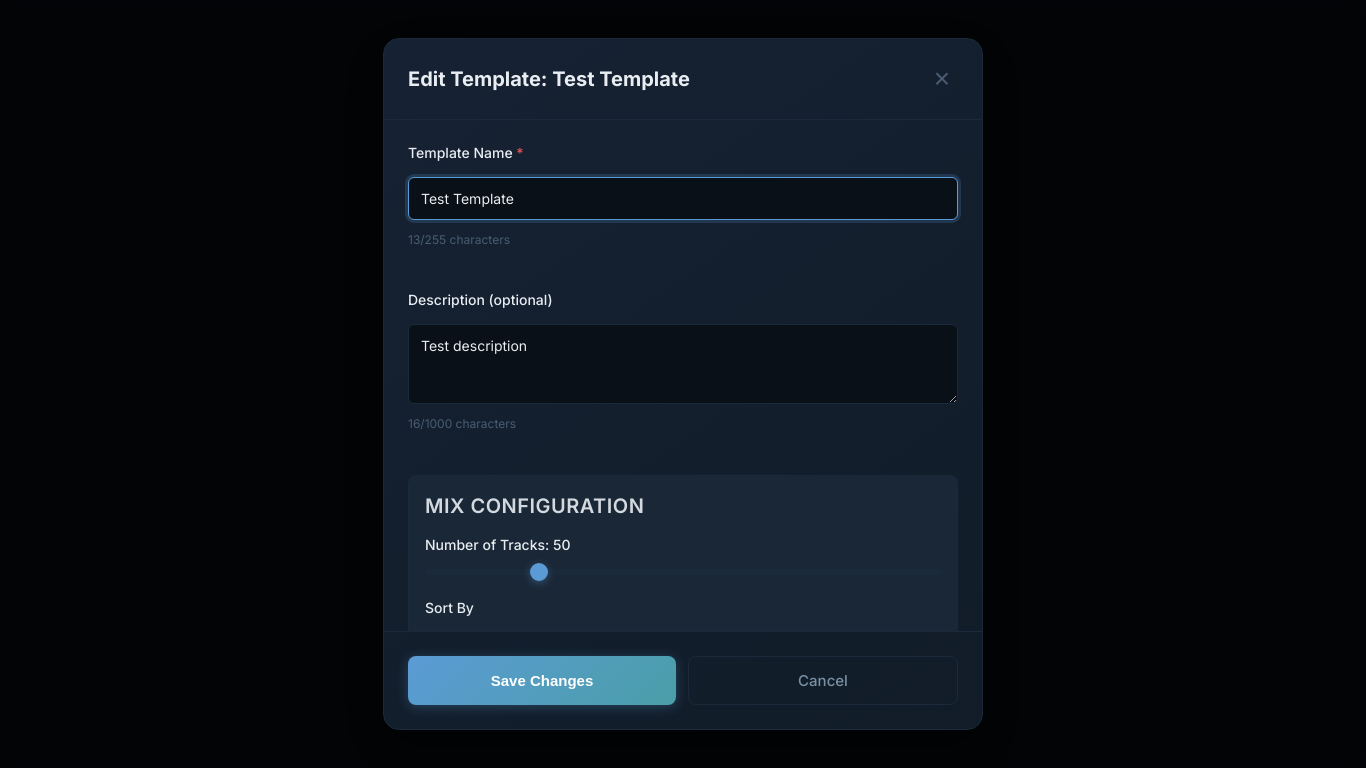
EditTemplateModal - Success/Error Messages › Error Messages › displays error message when save fails with Error object
This screenshot has width=1366, height=768.
Click the button "Save Changes". click: {"x": 542, "y": 680}
box: [408,656,676,705]
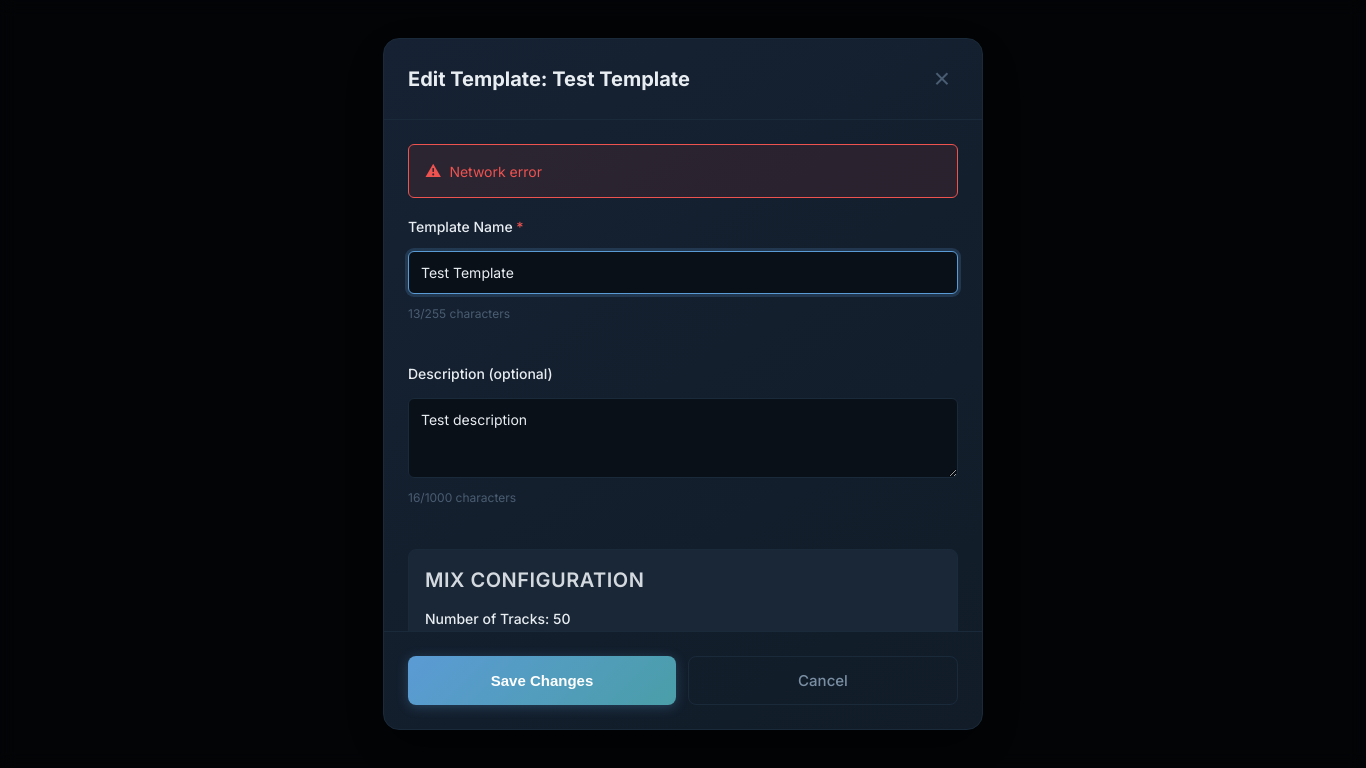
Result: the text "Network error" is shown at [408,144,958,198]
